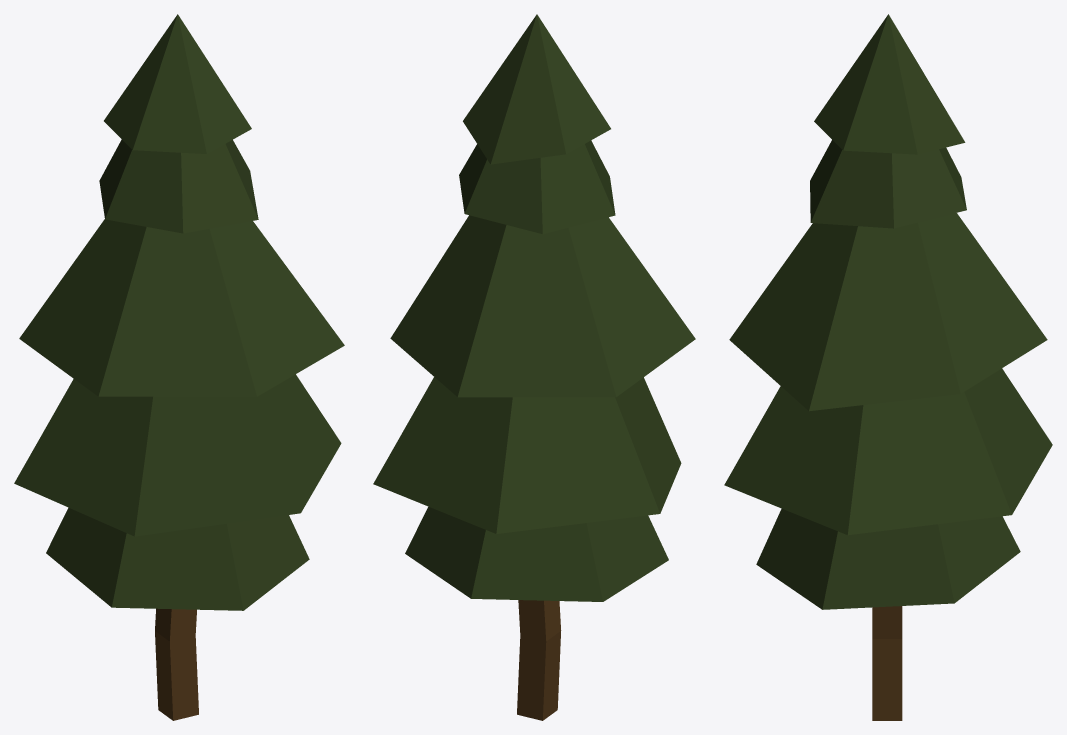
3 renders of one model, left to right at view 1: azimuth 30°, elevation 25°; view 2: azimuth 150°, elevation 25°; view 3: azimuth 270°, elevation 25°, orthographic.
Visible parts, largest first — view 1: tree conifer.02; view 2: tree conifer.02; view 3: tree conifer.02.
Part boxes in pixels (x1,y1,x2,y2): tree conifer.02: (14,14,344,720); tree conifer.02: (373,14,695,720); tree conifer.02: (724,14,1052,720).
Size of the model in its own units: 3.93 by 9.14 by 3.89.
Materials: 1 (1 with a texture image).
